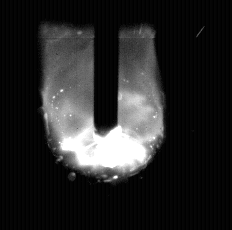arame: (95, 0, 118, 138)
poca: (52, 0, 157, 230)
